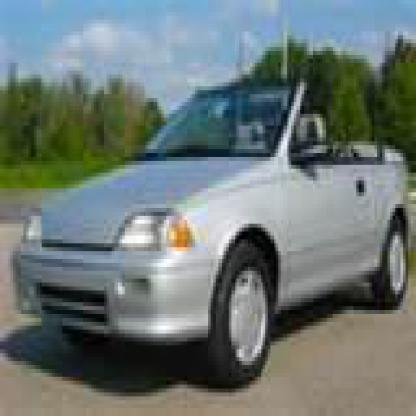Vehicle: (15, 75, 414, 412)
